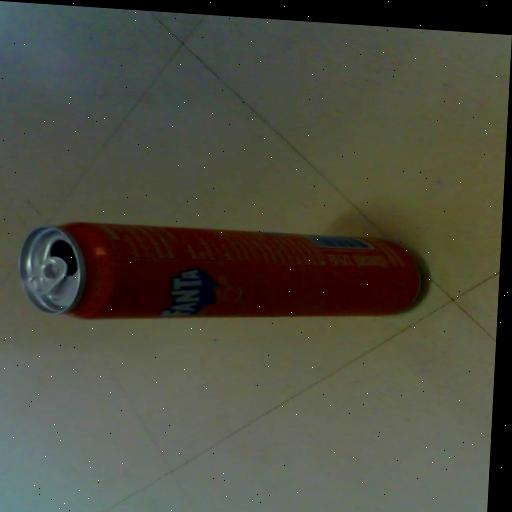canned: (0, 203, 442, 345)
